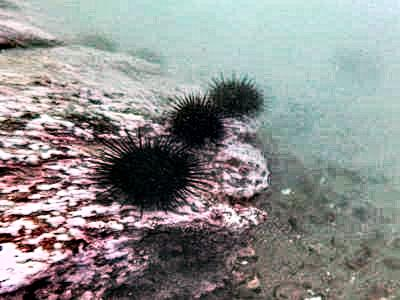urchin: (98, 129, 194, 207), (171, 93, 223, 149), (209, 75, 258, 114)
